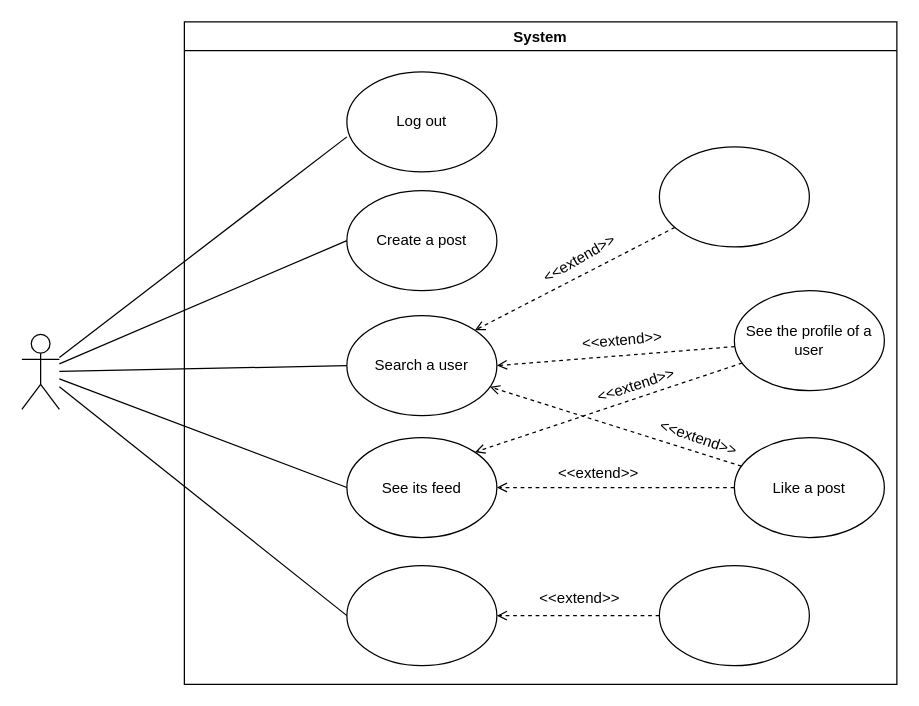
The diagram is 919 pixels wide and 706 high, and some of its shapes have lost their labels. Each missing label, with the box of its shape:
Edit profile and password: (658, 564, 809, 666)
Follow / Unfollow a user: (658, 146, 809, 247)
See its profile: (346, 564, 497, 666)
User: (21, 333, 59, 409)
